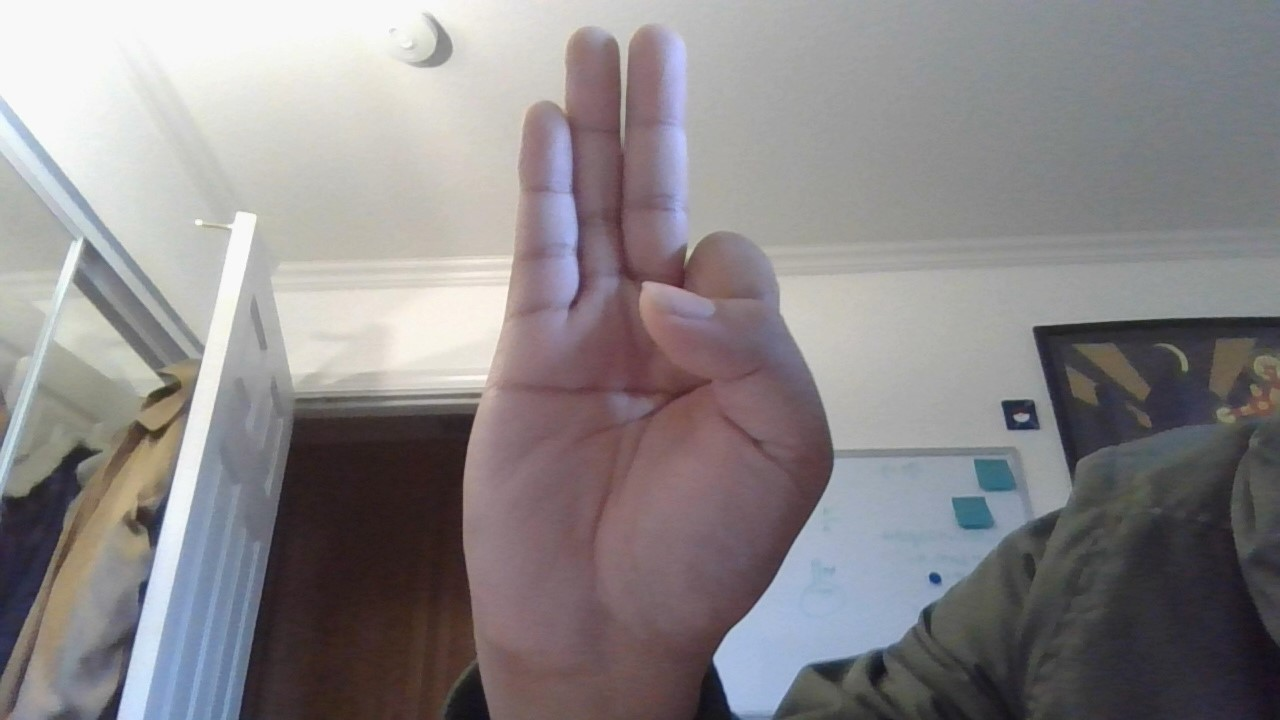f: (391, 12, 856, 720)
